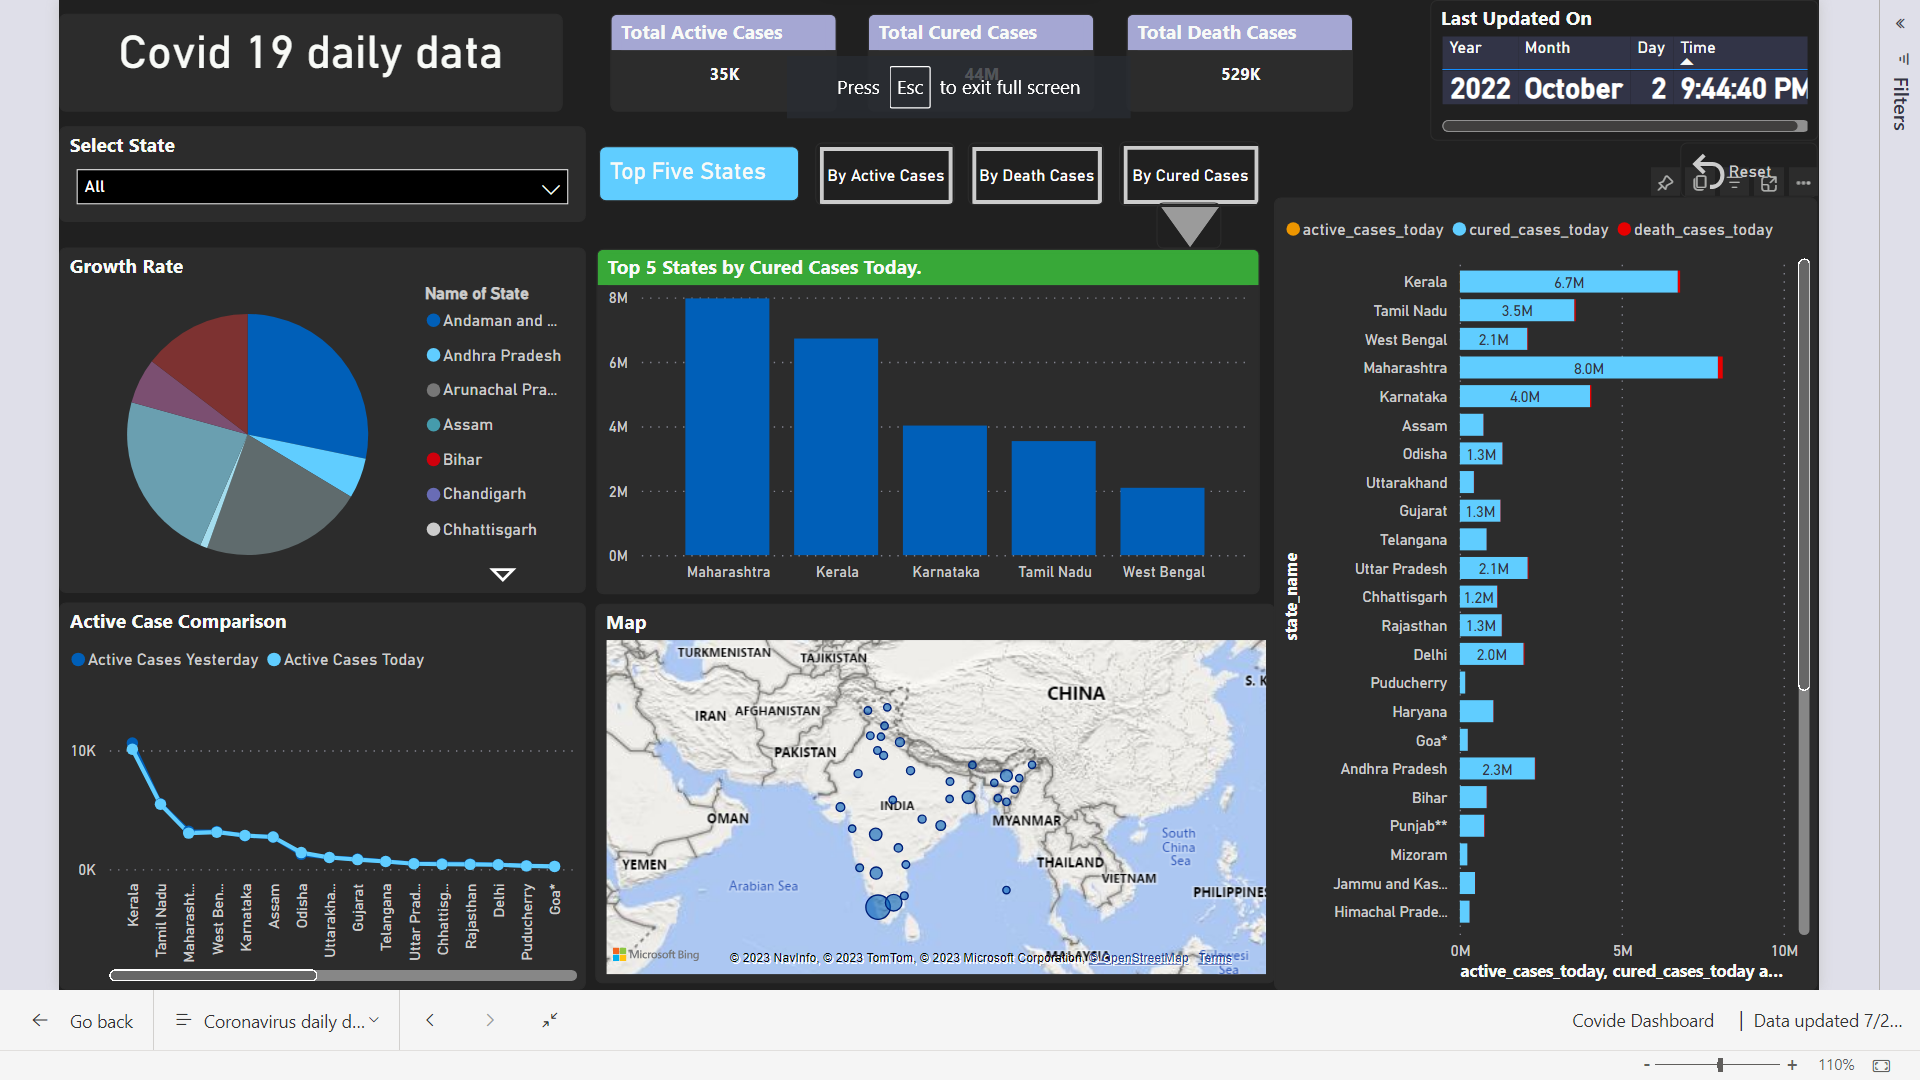

Layout of this report page (visuals, bound fields, positions):
{"tool":"powerbi","page":{"name":"Coronavirus daily data","canvas":[1280,720],"ordinal":1},"visuals":[{"type":"map","title":"Map","fields":{"Category":["india_covid_19_status.state_name"],"Size":["Sum(india_covid_19_status.active_cases_today)"]},"box":[390.2,438.8,494.3,275.8],"z":1000},{"type":"tableEx","title":"Last Updated On","fields":{"Values":["india_covid_19_status.last_updated_ist.1.Variation.Date Hierarchy.Year","india_covid_19_status.last_updated_ist.1.Variation.Date Hierarchy.Month","india_covid_19_status.last_updated_ist.1.Variation.Date Hierarchy.Day","india_covid_19_status.last_updated_ist.2"]},"box":[997.4,0,282.2,102.5],"z":2000},{"type":"barChart","fields":{"Y":["Sum(india_covid_19_status.active_cases_today)","Sum(india_covid_19_status.cured_cases_today)","Sum(india_covid_19_status.death_cases_today)"],"Category":["india_covid_19_status.state_name"]},"box":[884,143.5,395.6,576.5],"z":3000},{"type":"textbox","box":[0,9.6,366.7,71.4],"z":4000},{"type":"columnChart","title":"Top 5 States  by Cured Cases Today.","fields":{"Category":["india_covid_19_status.state_name"],"Y":["Sum(india_covid_19_status.cured_cases_yesterday)"]},"box":[390.8,180.9,482.4,250.9],"z":5000},{"type":"lineChart","title":"Active Case Comparison ","fields":{"Category":["india_covid_19_status.state_name"],"Y":["Sum(india_covid_19_status.active_cases_yesterday)","Sum(india_covid_19_status.active_cases_today)"]},"box":[0,438.1,383.2,281.5],"z":7000},{"type":"card","title":"Total Death Cases","fields":{"Values":["Sum(india_covid_19_status.death_cases_today)"]},"box":[776,9.6,164.8,71.4],"z":8000},{"type":"card","title":"Total Cured Cases","fields":{"Values":["Sum(india_covid_19_status.cured_cases_today)"]},"box":[588.5,9.6,164.8,71.4],"z":9000},{"type":"card","title":"Total Active Cases","fields":{"Values":["Sum(india_covid_19_status.active_cases_today)"]},"box":[401,9.6,164.8,71.4],"z":10000},{"type":"actionButton","box":[549.5,103.7,101.3,45.8],"z":11000},{"type":"actionButton","box":[770.7,103.1,102.5,47],"z":12000},{"type":"actionButton","box":[661.3,103.7,98.9,45.8],"z":13000},{"type":"textbox","box":[393.2,106.7,145.9,39.8],"z":14000},{"type":"shape","box":[798.4,147.1,47,33.8],"z":17000},{"type":"actionButton","box":[1179.5,103.7,100.1,39.8],"z":18000},{"type":"pieChart","title":"Growth Rate ","fields":{"Y":["Sum(india_covid_19_status.% Change)"],"Category":["india_covid_19_status.state_name"]},"box":[0,180.4,383.3,251.5],"z":19000},{"type":"slicer","title":"Select State","fields":{"Values":["india_covid_19_status.state_name"]},"box":[0,91.9,383.3,69.4],"z":20000}]}

Visuals, with their boxes on the page's 1280x720 design canvas (x1, y1, x2, y2). These are canvas units, not pixel positions in the 1920x1080 screenshot, which may show the page scaled, cropped or inside an application window:
"Map" map: <region>390, 439, 884, 715</region>
"Last Updated On" tableEx: <region>997, 0, 1280, 102</region>
barChart - Sum(india_covid_19_status.active_cases_today) x Sum(india_covid_19_status.cured_cases_today): <region>884, 144, 1280, 720</region>
textbox: <region>0, 10, 367, 81</region>
"Top 5 States  by Cured Cases Today." columnChart: <region>391, 181, 873, 432</region>
"Active Case Comparison " lineChart: <region>0, 438, 383, 720</region>
"Total Death Cases" card: <region>776, 10, 941, 81</region>
"Total Cured Cases" card: <region>588, 10, 753, 81</region>
"Total Active Cases" card: <region>401, 10, 566, 81</region>
actionButton: <region>550, 104, 651, 150</region>
actionButton: <region>771, 103, 873, 150</region>
actionButton: <region>661, 104, 760, 150</region>
textbox: <region>393, 107, 539, 146</region>
shape: <region>798, 147, 845, 181</region>
actionButton: <region>1180, 104, 1280, 144</region>
"Growth Rate " pieChart: <region>0, 180, 383, 432</region>
"Select State" slicer: <region>0, 92, 383, 161</region>
